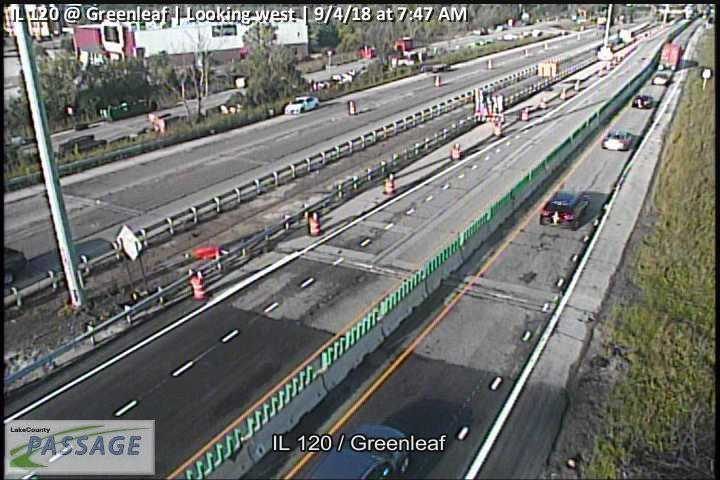SUV: (540, 190, 590, 230)
Sedan: (302, 424, 412, 480), (602, 128, 634, 151), (285, 95, 318, 114), (631, 94, 653, 109)
